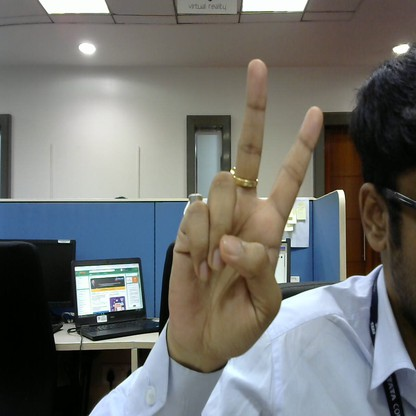v: (168, 53, 327, 353)
